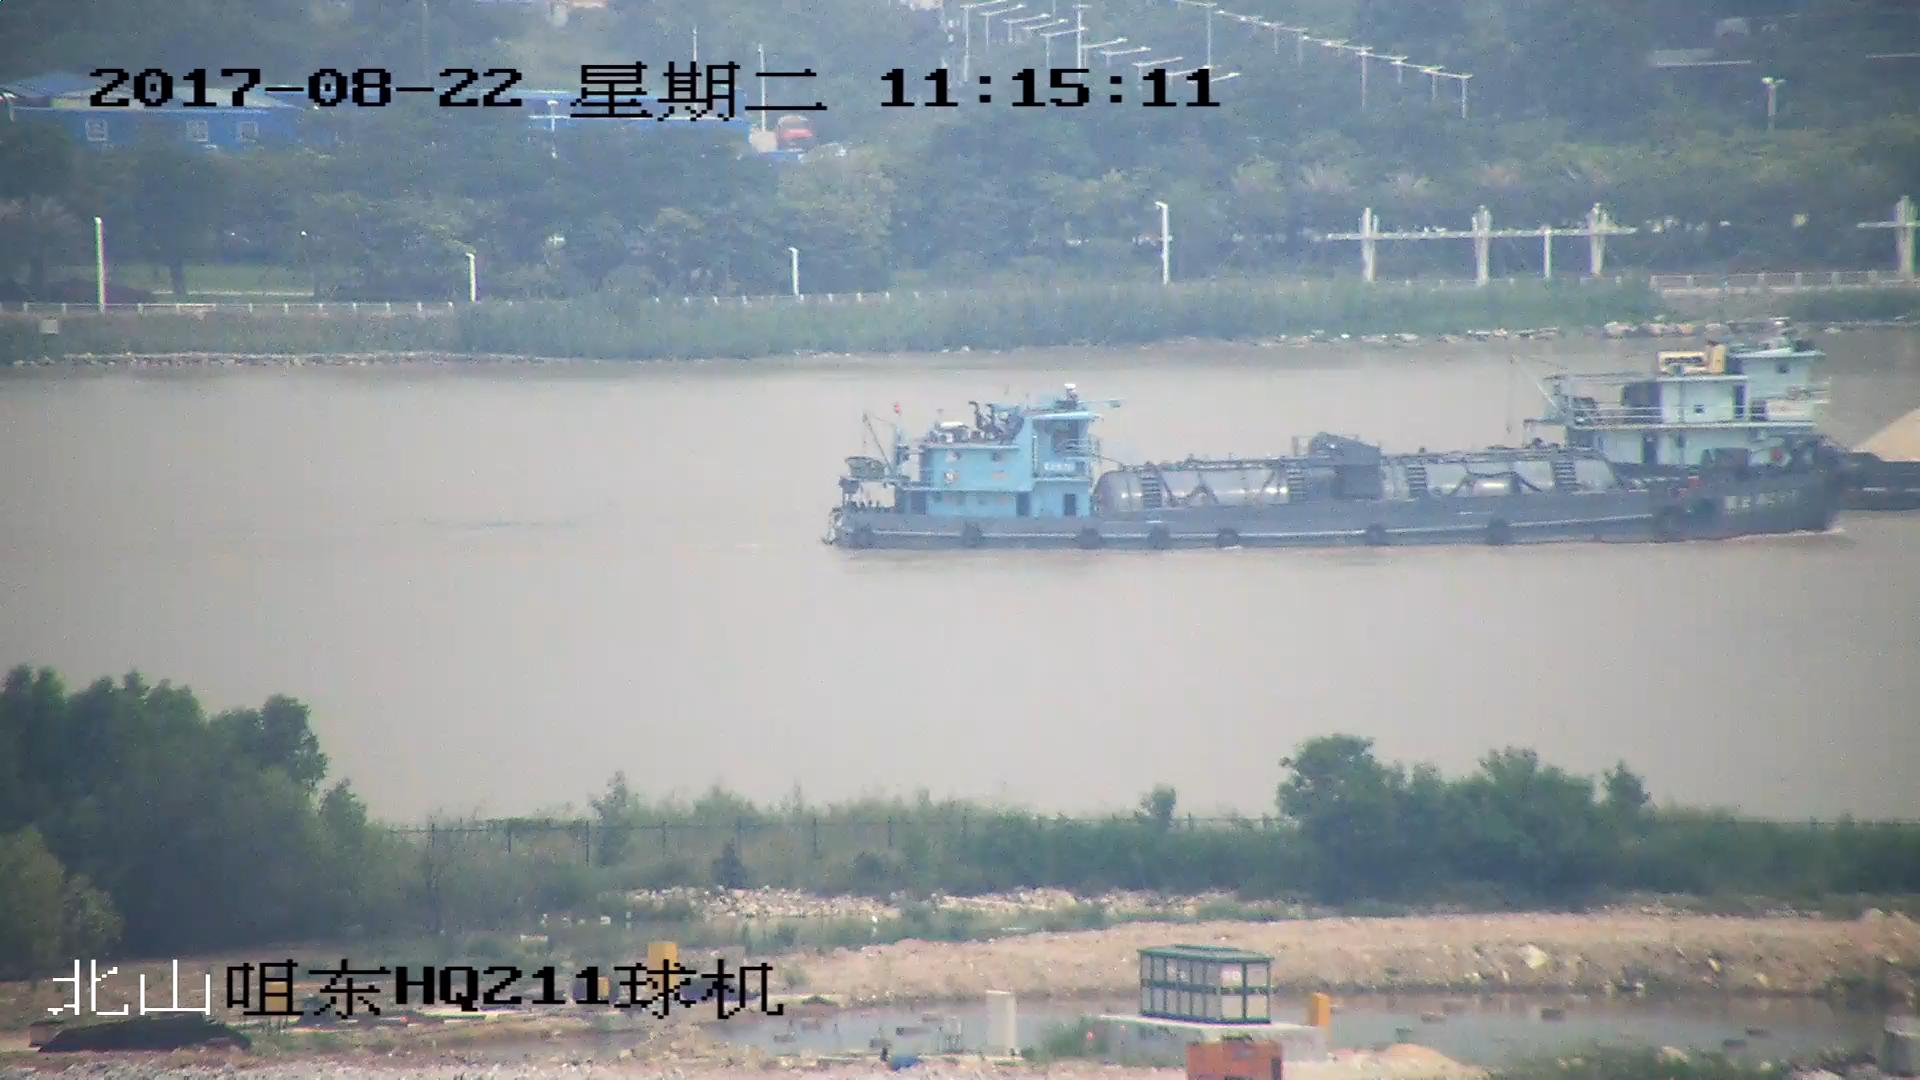bulk cargo carrier: (818, 397, 1861, 552)
ore carrier: (1533, 337, 1920, 510)
